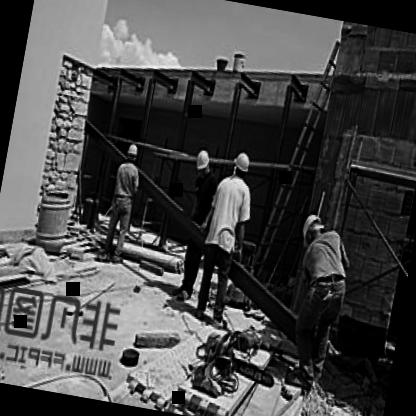helmet: (298, 209, 328, 249), (230, 148, 252, 178), (192, 148, 214, 178), (124, 138, 140, 164)
